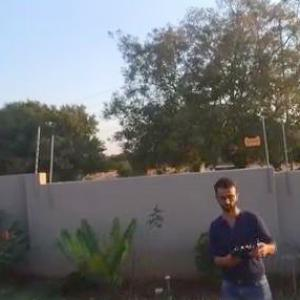follow: (202, 167, 284, 299)
